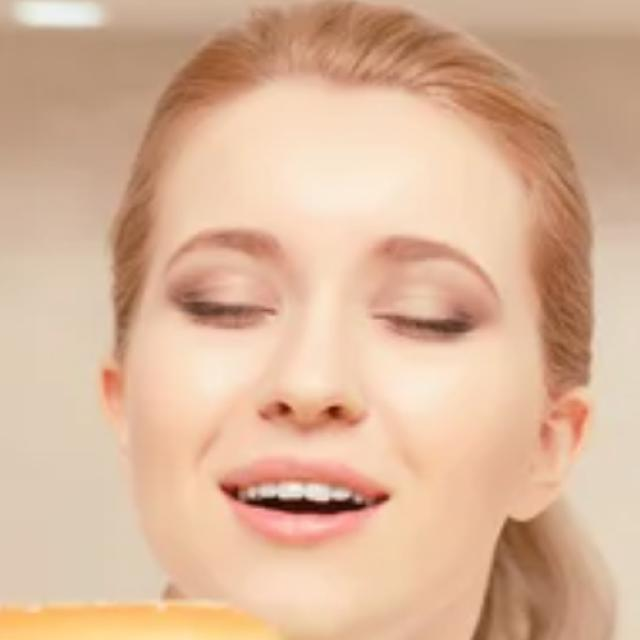close: (357, 220, 511, 360), (157, 217, 304, 354)
